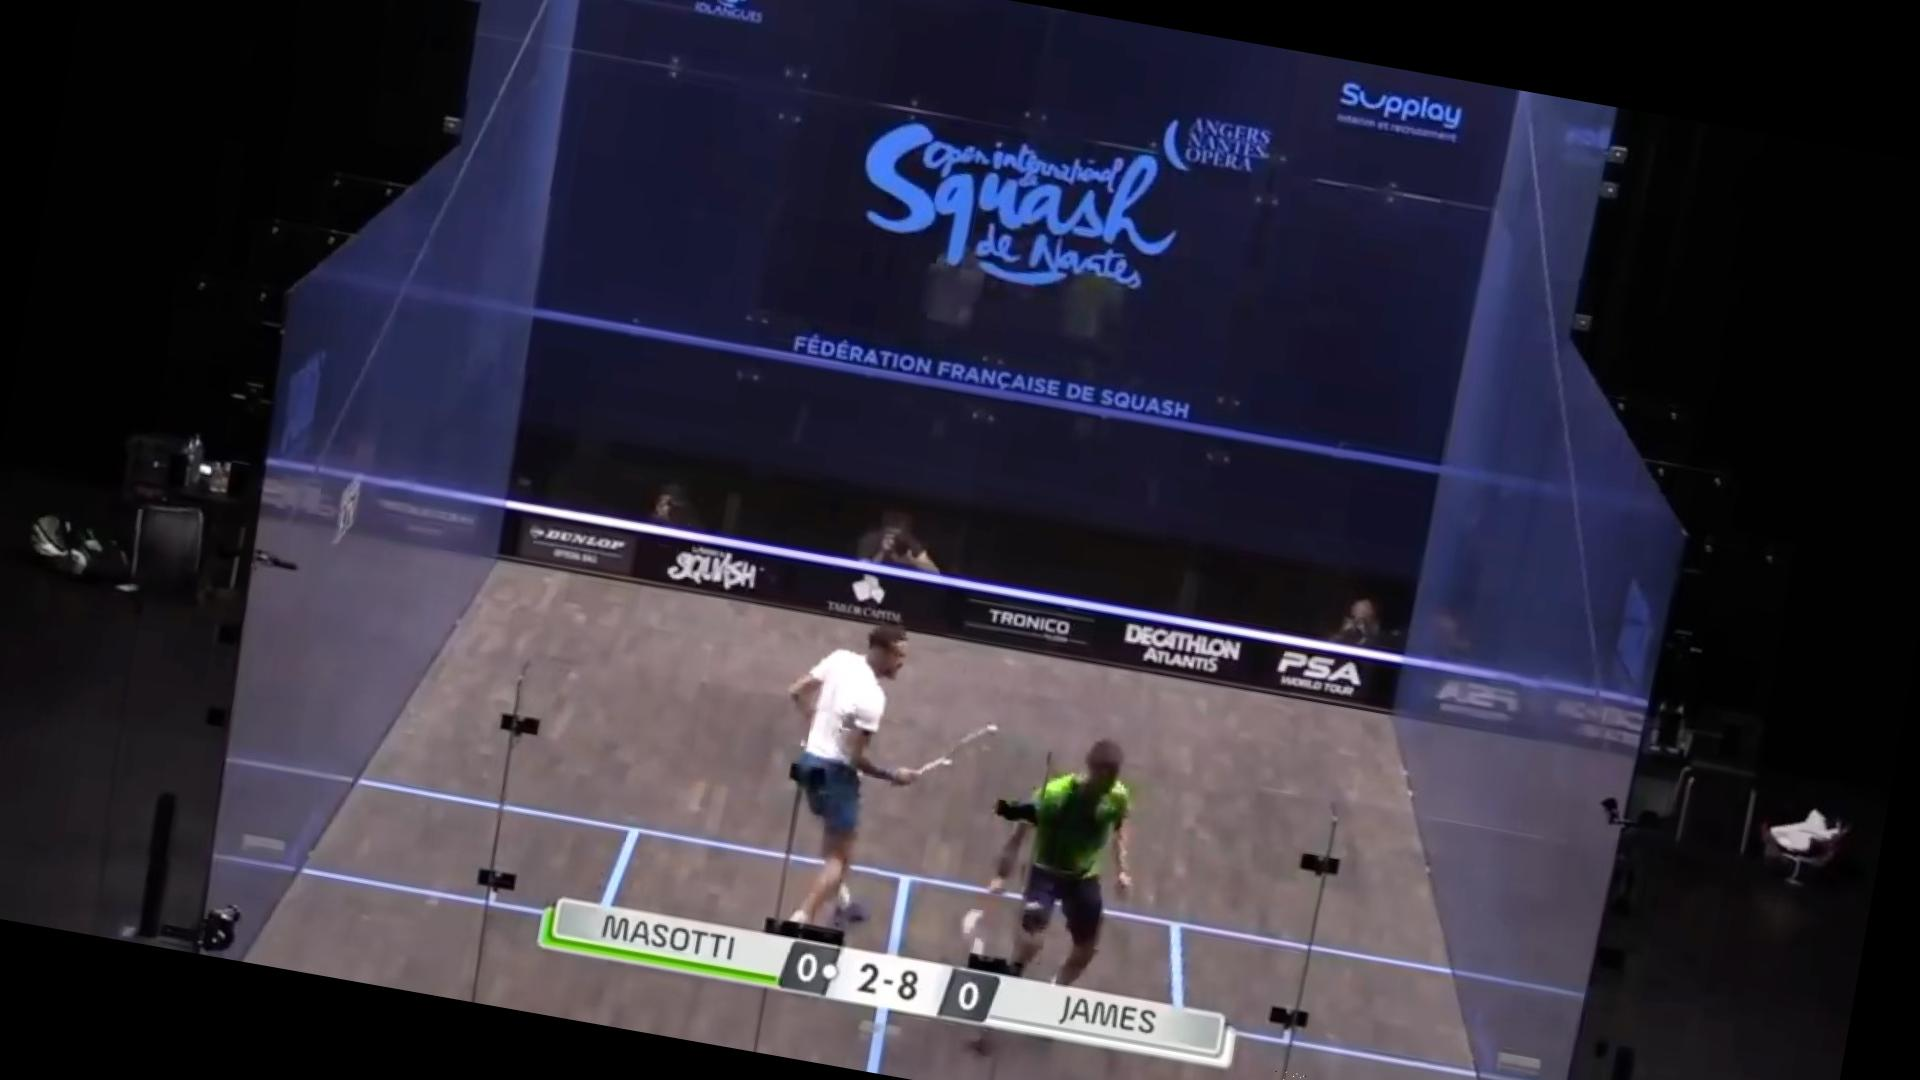Squash-Ball: (1266, 1065, 1321, 1080)
